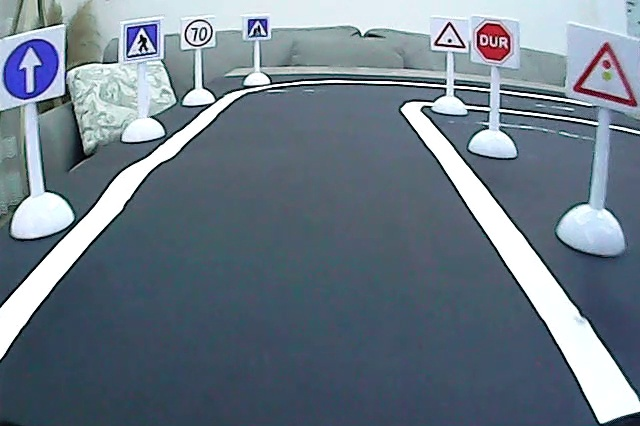green light: (432, 19, 467, 52)
pedestrian crossing: (123, 20, 163, 60)
red light: (567, 38, 639, 111)
school crossing: (245, 16, 269, 39)
speed limit 70: (183, 18, 214, 49)
stop sign: (472, 19, 516, 65)
